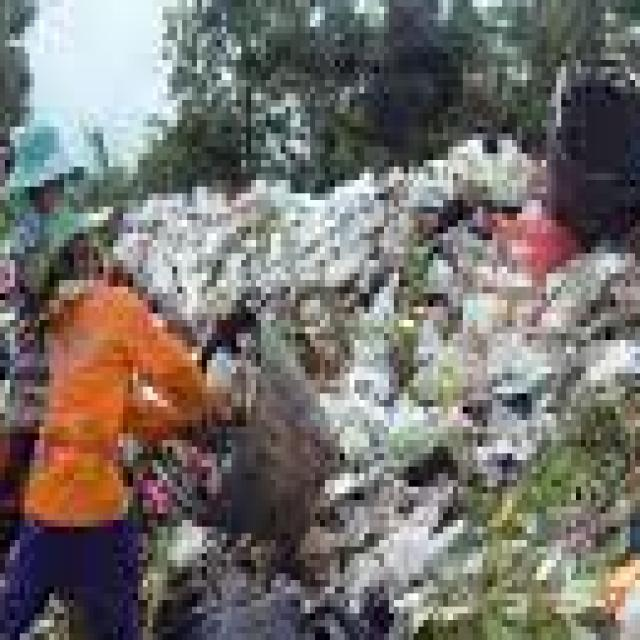-: (193, 199, 595, 478)
